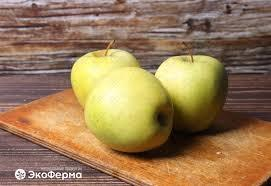Apple: (85, 67, 174, 153), (153, 56, 227, 134), (71, 49, 141, 117)
